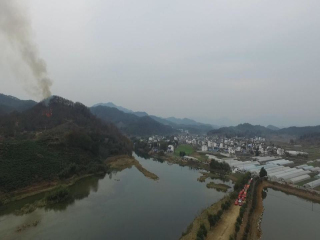smoke: (1, 9, 53, 112)
